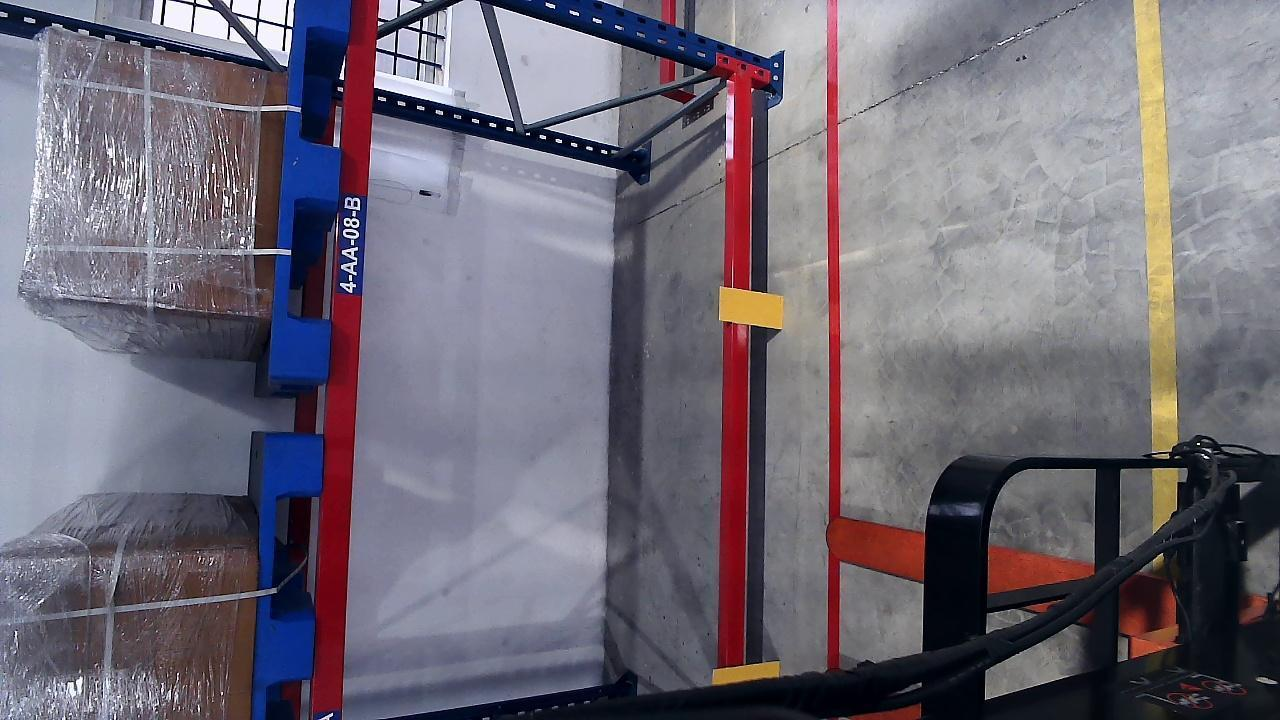red_line: (822, 0, 844, 660)
yellow_line: (1134, 0, 1181, 452)
